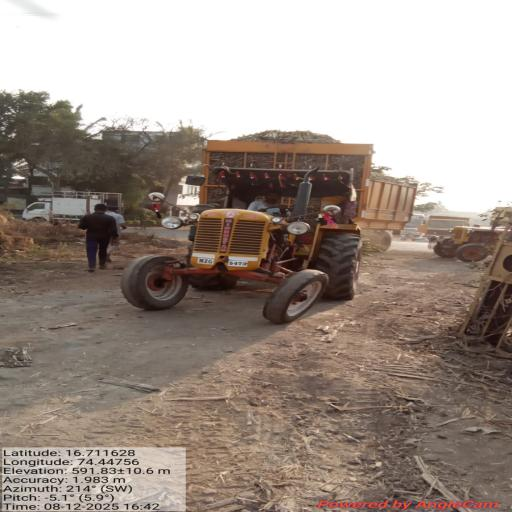number_plate: (228, 259, 248, 267), (198, 258, 213, 264)
